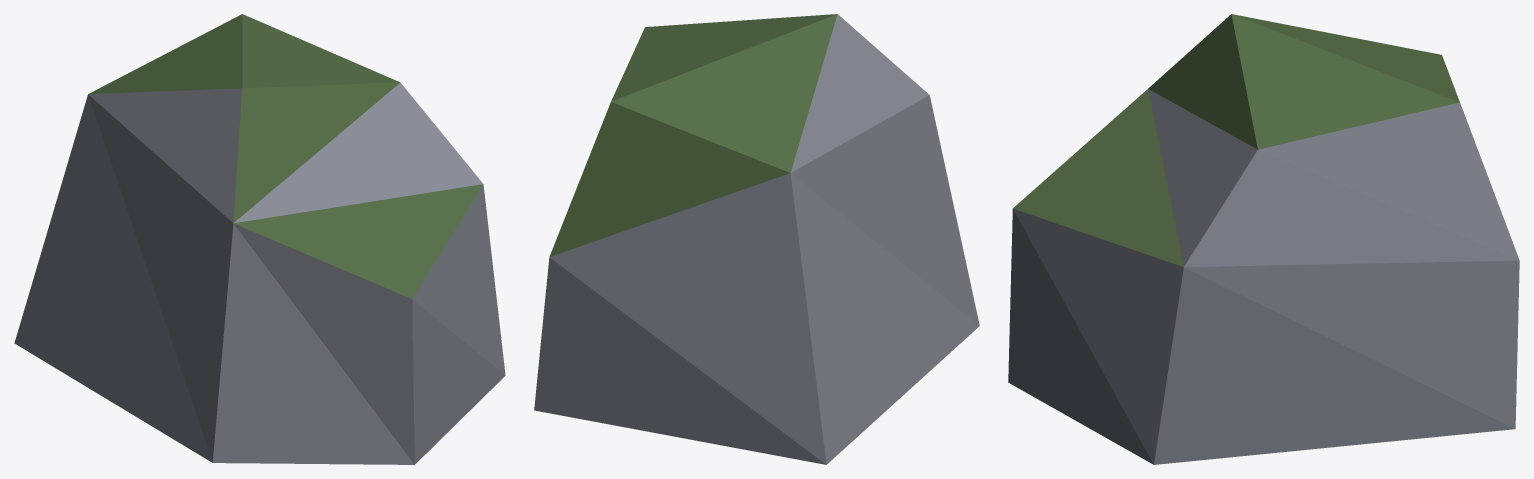
The model's file is Rock_Moss_7.lod2.glb.
3 views of the same model, side by side, from view 1: azimuth 30°, elevation 25°; view 2: azimuth 150°, elevation 25°; view 3: azimuth 270°, elevation 25° (orthographic). The views are drawn at different scales.
Parts seen in each view (by area): view 1: Rock_Moss_7; view 2: Rock_Moss_7; view 3: Rock_Moss_7.
Part boxes in pixels (<box>): Rock_Moss_7: <box>14,14,505,464</box>; Rock_Moss_7: <box>534,14,979,464</box>; Rock_Moss_7: <box>1008,14,1519,464</box>.
Bounding box in the file's own units: 0.8433 × 0.7618 × 1.05.
